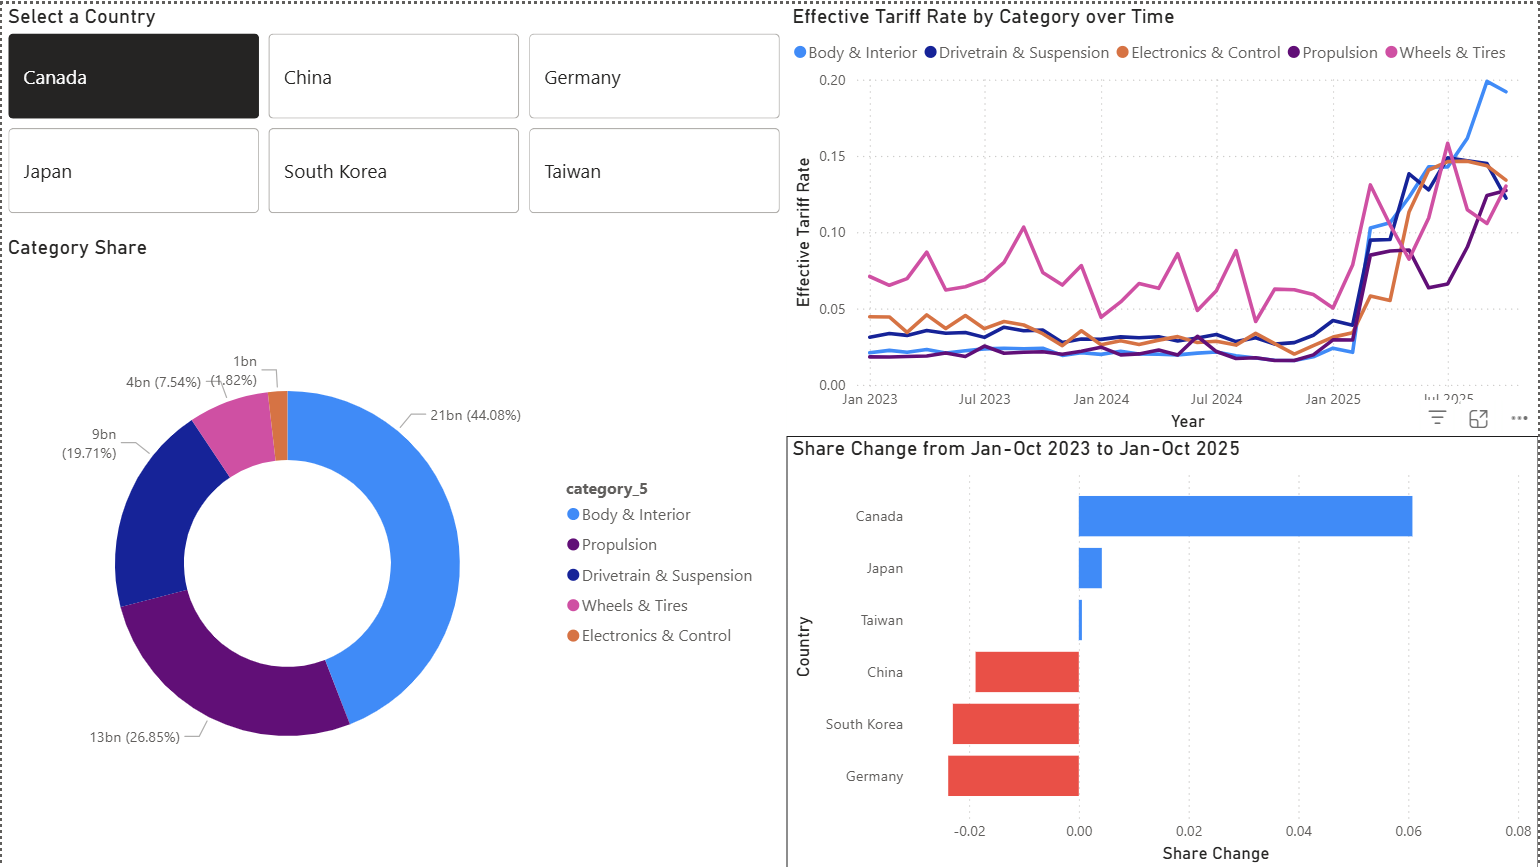

This screenshot's page, from the dashboard's own definition file:
{"tool":"powerbi","page":{"name":"Page 6","canvas":[1280,720],"ordinal":1},"visuals":[{"type":"lineChart","title":"Effective Tariff Rate by Category over Time","fields":{"Series":["DIM_PRODUCTS (2).category_5"],"Y":["Pivoted Data.E2"],"Category":["DIM_TIME.year_month.Variation.Date Hierarchy.Year","DIM_TIME.year_month.Variation.Date Hierarchy.Quarter","DIM_TIME.year_month.Variation.Date Hierarchy.Month","DIM_TIME.year_month.Variation.Date Hierarchy.Day"]},"box":[653.8,0,626.2,360],"z":1000},{"type":"actionButton","box":[0,0,100,40],"z":2000},{"type":"clusteredBarChart","title":"Share Change from Jan-Oct 2023 to Jan-Oct 2025","fields":{"Y":["Sum(Sourcing_Shift2.0.Change)"],"Category":["Sourcing_Shift2.0.country_name"]},"box":[653.8,360,626.2,360],"z":3000},{"type":"donutChart","title":"Category Share","fields":{"Category":["DIM_PRODUCTS (2).category_5"],"Y":["Sum(FACTS_IMPORTS.General_Customs_Value)"]},"box":[0,192.5,640,527.5],"z":3002},{"type":"advancedSlicerVisual","title":"Select a Country","fields":{"Values":["FACTS_IMPORTS.country_name"]},"box":[0,0,653.8,180],"z":3003}]}

Visuals, with their boxes in screenshot pixels (x1, y1, x2, y2), scaled from the page's 1280x720 canvas onto the 1540x867 screenshot:
"Effective Tariff Rate by Category over Time" lineChart: 787:0:1539:434
actionButton: 0:0:120:48
"Share Change from Jan-Oct 2023 to Jan-Oct 2025" clusteredBarChart: 787:434:1539:866
"Category Share" donutChart: 0:232:770:866
"Select a Country" advancedSlicerVisual: 0:0:787:217
